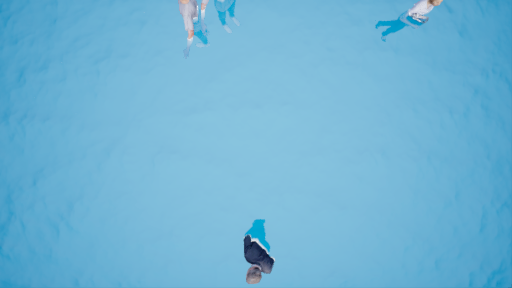person: (168, 1, 253, 49), (234, 207, 285, 281), (377, 1, 457, 40)
